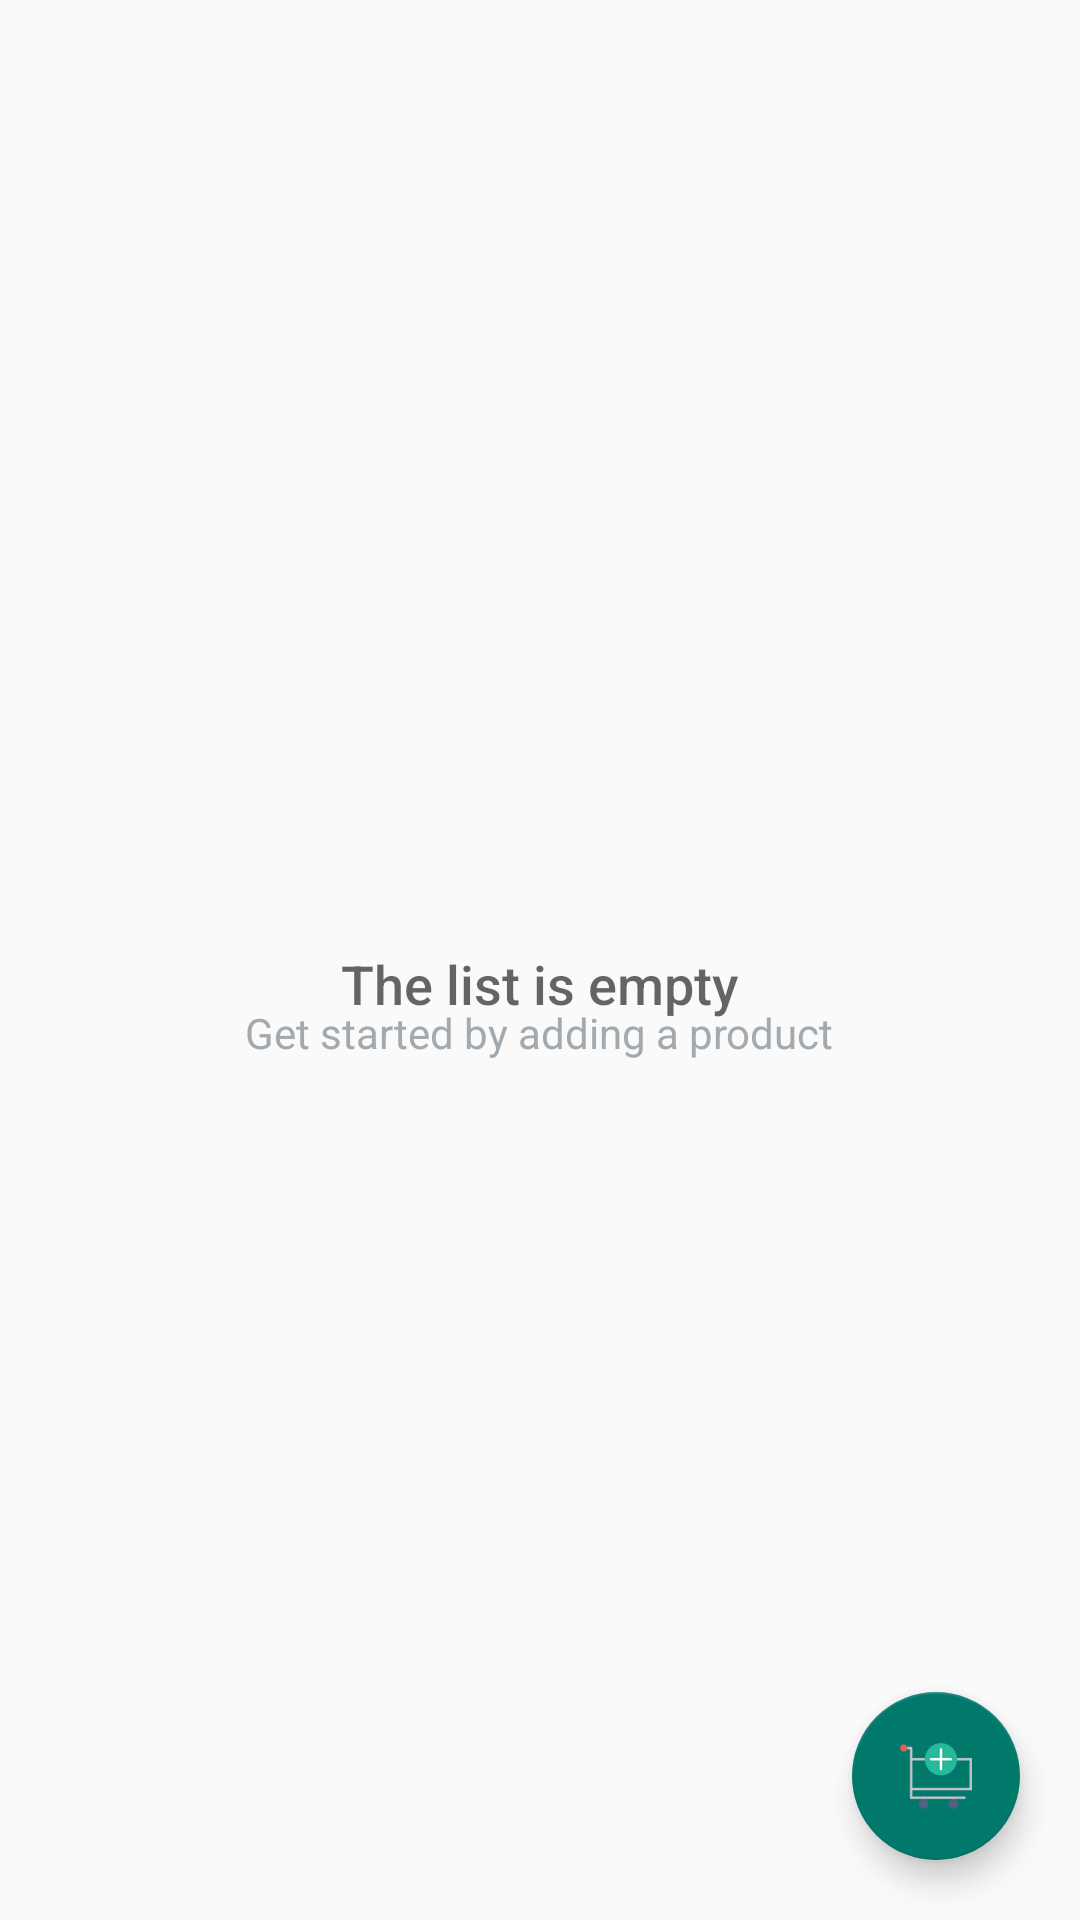

Named icons in this screenshot (1080*1920) and their bounding boxes, [left=x1, top=y1, right=x2, bottom=y2]:
cart: [left=852, top=1692, right=1020, bottom=1860]
